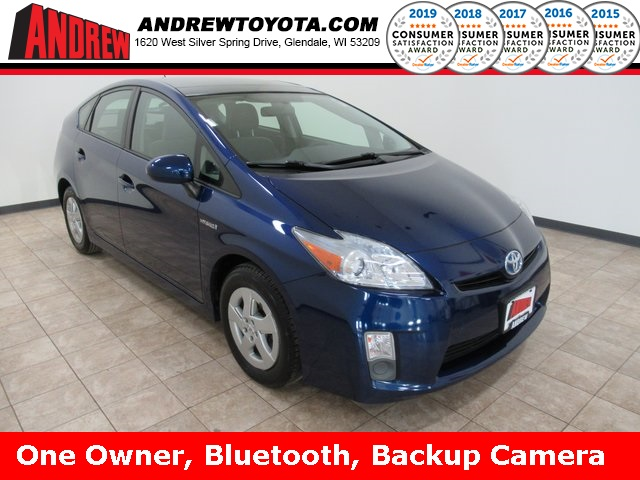Toyota Prius: (56, 76, 551, 403)
